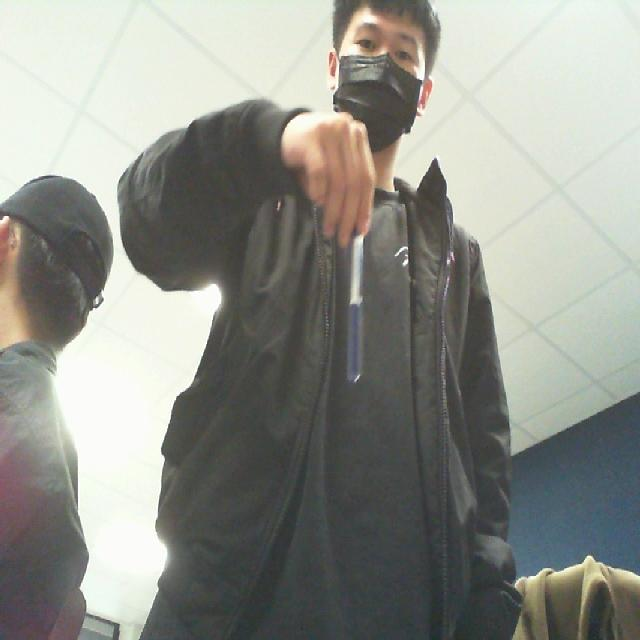Pen: (331, 205, 380, 394)
